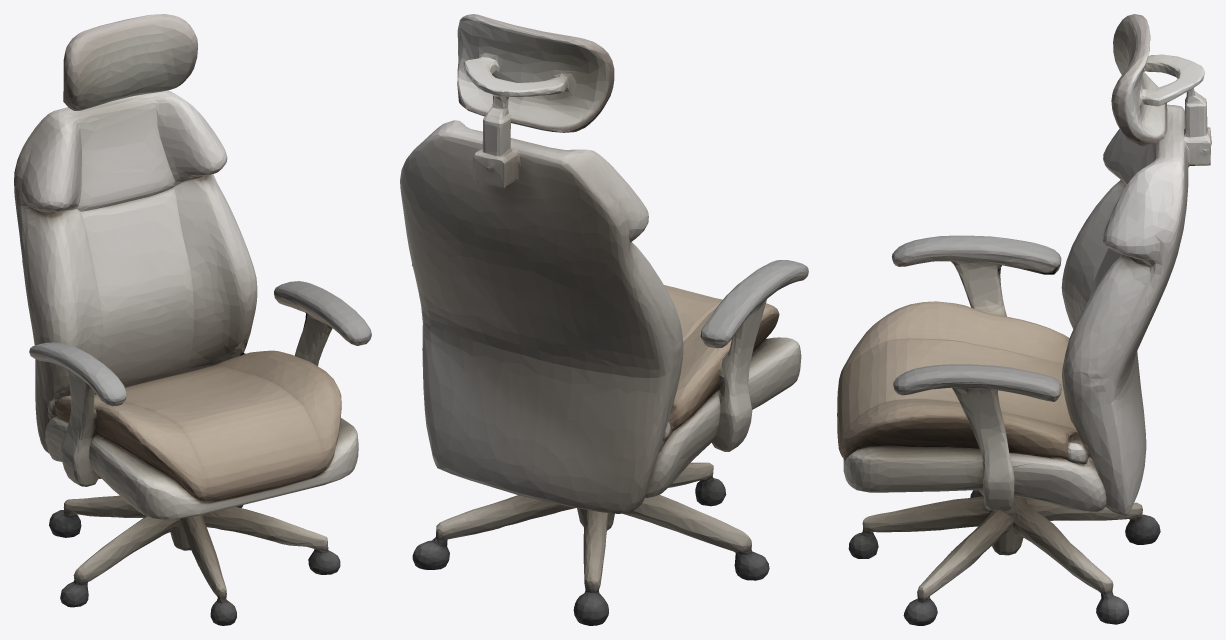
Rendered from room_scan_70630b05-6ef2-4b5a-8741-54d20a5d9365_scene_chair_002_chair_frame_0005_bbox_2585_1032_1030_1165_textured_yolo_12k_v1.glb.
3 views of the same model, side by side, from view 1: azimuth 30°, elevation 25°; view 2: azimuth 150°, elevation 25°; view 3: azimuth 270°, elevation 25° (orthographic). The views are drawn at different scales.
Visible parts, largest first — view 1: world; view 2: world; view 3: world.
Part boxes in pixels (x1,y1,x2,y2): world: (14, 14, 371, 625); world: (400, 14, 808, 625); world: (837, 14, 1211, 625).
Size of the model in its own units: 0.5772 by 1 by 0.6388.
1 material, 1 textured.
